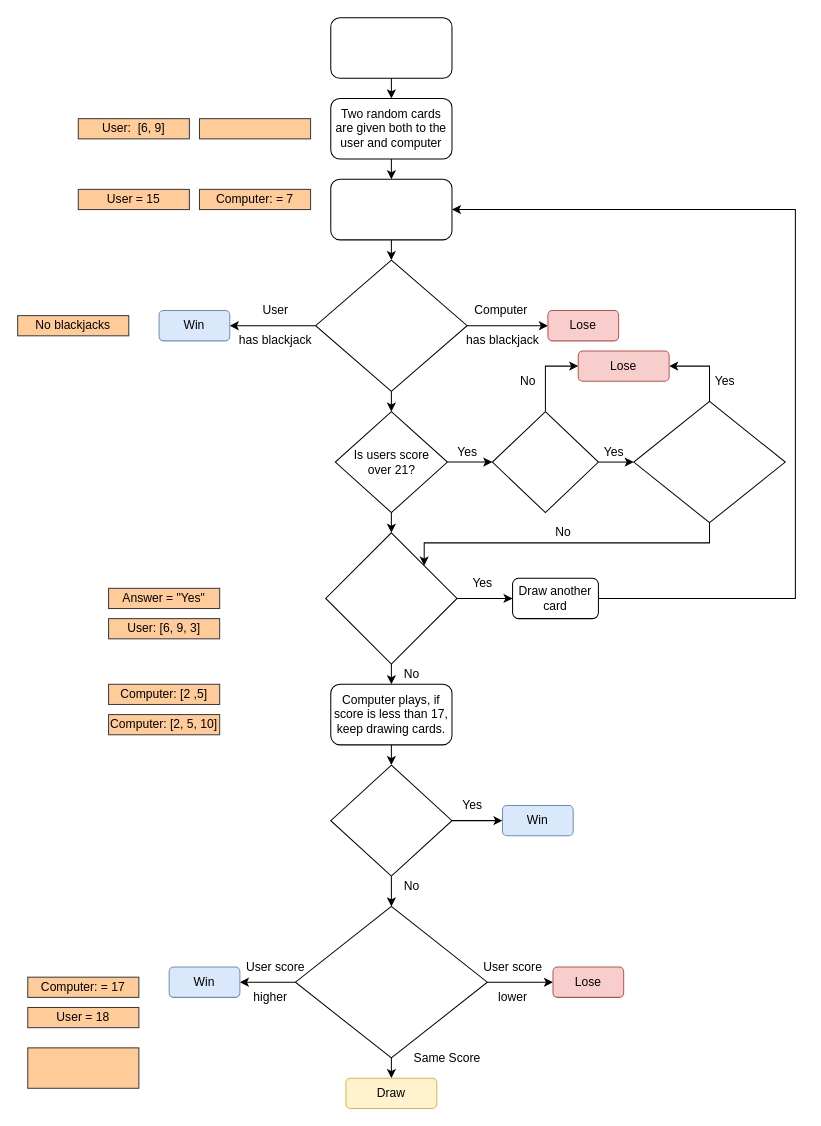
Some shapes in this 821 by 1126 pixel diagram are drawn without their labels. Each missing label, with the box of its shape:
add up the users and the computers scores: (330, 178, 452, 240)
Ask the user if they want to get another card.: (325, 532, 457, 664)
Compare users score with computer score to see if user score is higher?: (294, 905, 487, 1058)
Computer: [2, 5]: (198, 118, 311, 139)
Do they have an "Ace"?: (491, 411, 598, 513)
Does the user or computer have a blackjack? ("Ace" + 10): (315, 259, 467, 391)
Has the computer gone over 21?: (330, 764, 452, 876)
If the "Ace" counts as a 1 instead of 11 are they still over 21?: (633, 400, 785, 523)
Outcome: User wins: (27, 1047, 139, 1088)
Start: (330, 17, 452, 78)
